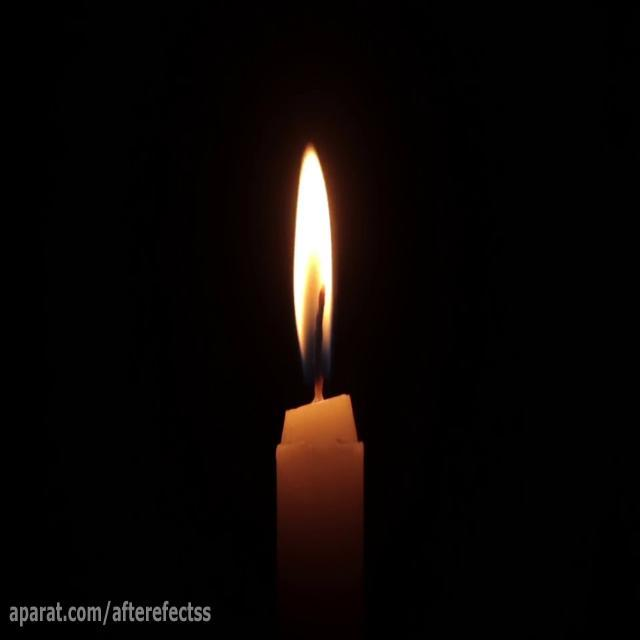Smoke: (275, 130, 356, 390)
